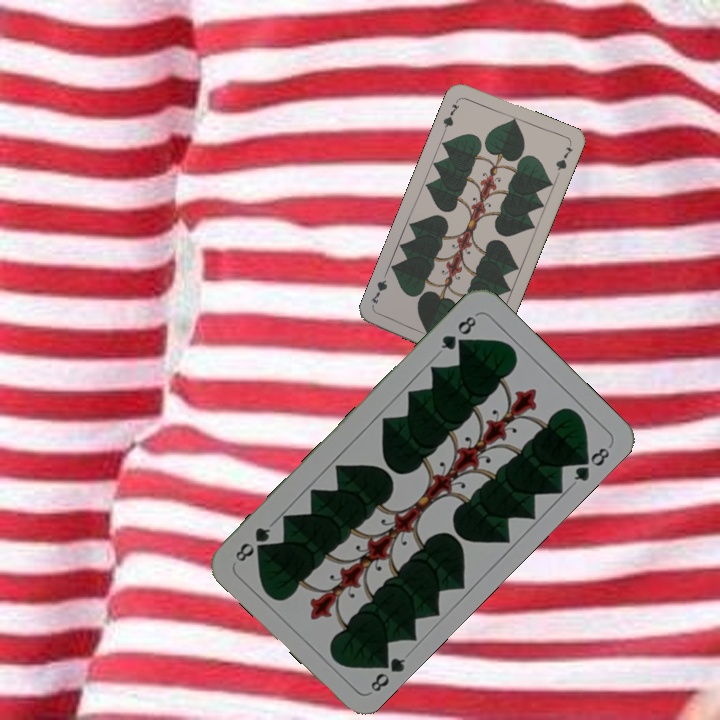G7: (439, 96, 462, 134)
G8: (366, 650, 409, 695), (436, 310, 480, 353)
